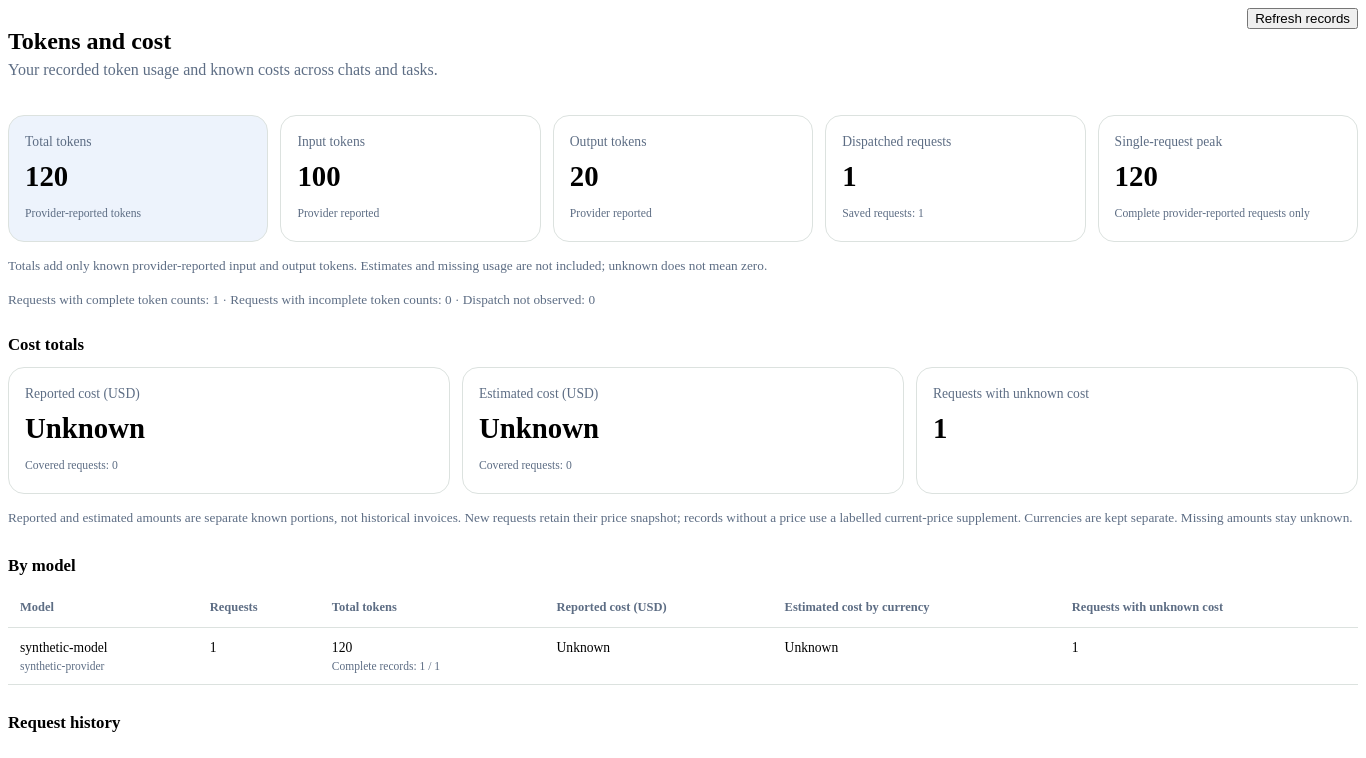
Test case: token usage records › does not turn missing money data into zero and preserves an explicitly reported zero
Check: the element "Cost totals" is shown, box [8, 335, 1358, 528]
Check: the text "Unknown" below "Estimated cost (USD)" is shown, box [479, 412, 599, 444]
What coordinates should you click on to do the following:
click the button "Refresh records"
I would click on:
 (1303, 18)
Its box is [1247, 8, 1358, 29].
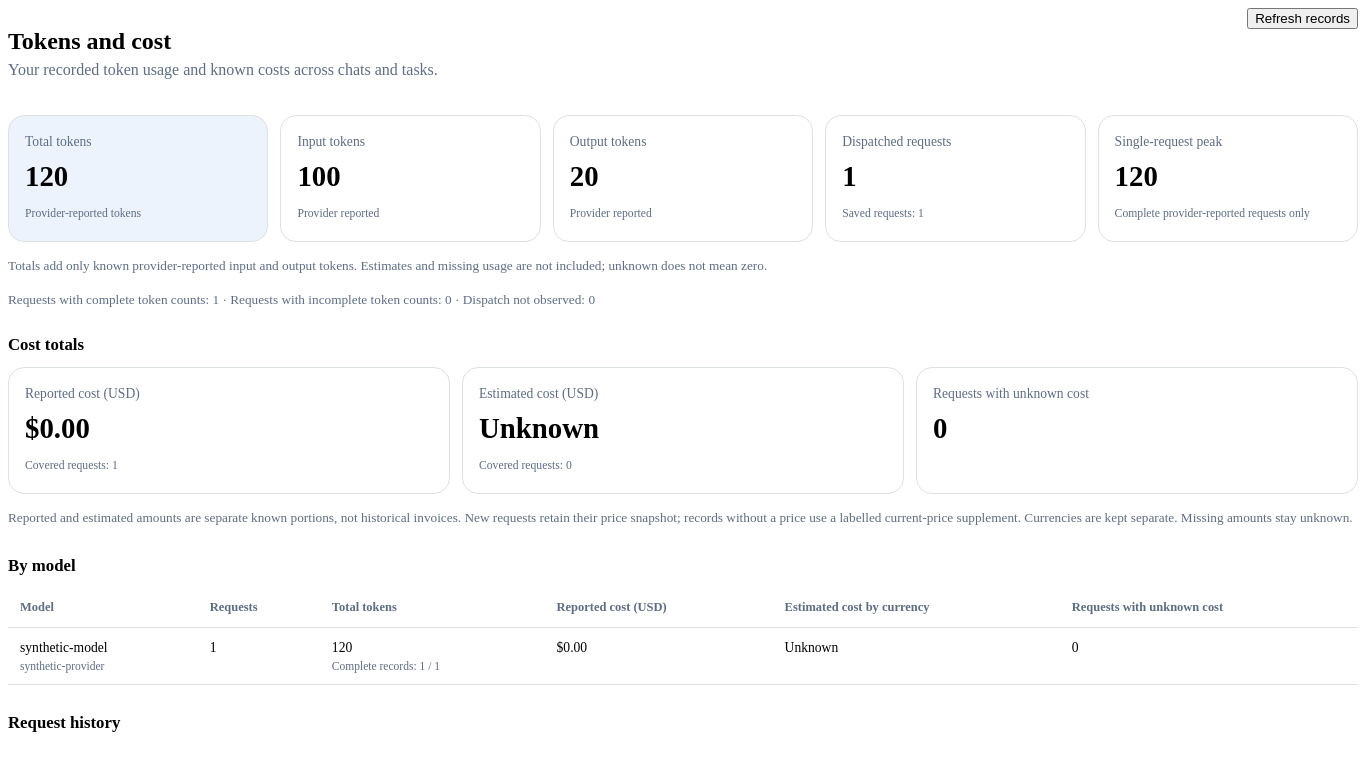
Check: the text "Unknown" is shown, box [479, 412, 599, 444]
Check: the text "$0.00" is shown, box [25, 412, 90, 444]
Check: the text "0" is shown, box [933, 412, 947, 444]
